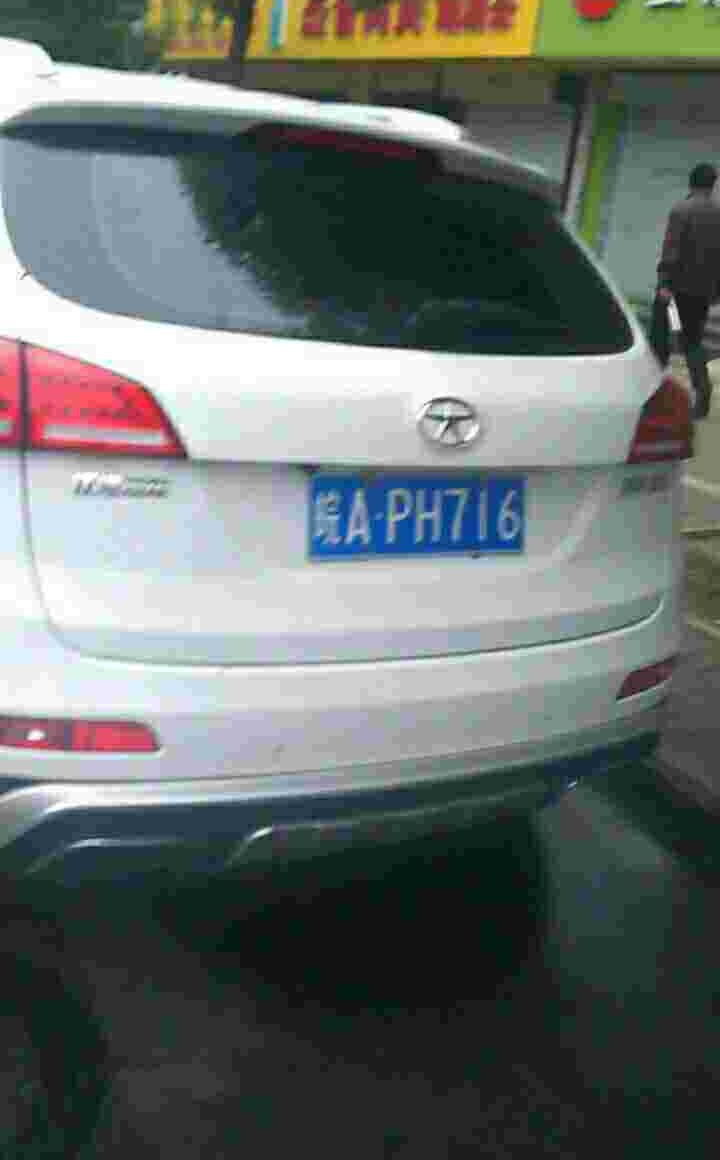plate: (313, 470, 536, 561)
